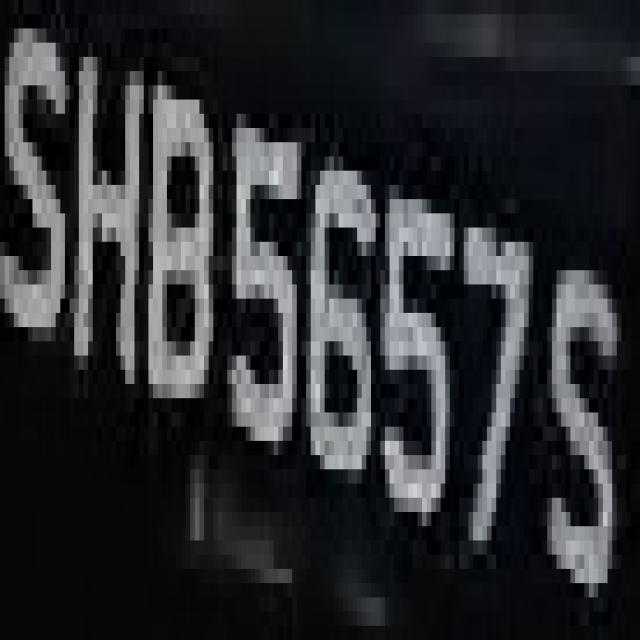5: (222, 86, 302, 470), (385, 142, 454, 526)
6: (297, 128, 380, 540)
7: (450, 185, 538, 583)
B: (153, 29, 218, 426)
H: (74, 29, 153, 455)
S: (542, 242, 622, 640), (14, 15, 79, 412)
